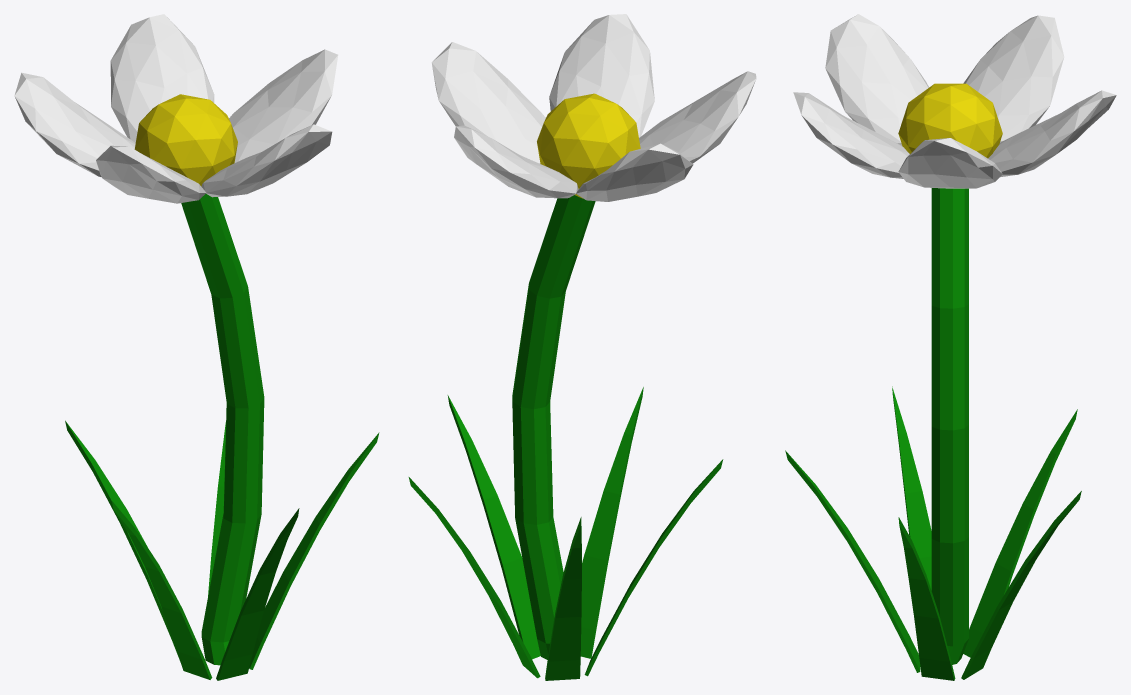
The model's file is kwiatuszek1.glb.
The picture shows the model from 3 angles, left to right: view 1: azimuth 30°, elevation 25°; view 2: azimuth 150°, elevation 25°; view 3: azimuth 270°, elevation 25°; orthographic projection. The views are drawn at different scales.
Visible parts, largest first — view 1: Cylinder, Cube; view 2: Cylinder, Cube; view 3: Cylinder, Cube.
Boxes of the visible parts, x1=… form: Cylinder: x1=14, y1=14, x2=338, y2=665; Cube: x1=65, y1=420, x2=379, y2=680; Cylinder: x1=431, y1=14, x2=756, y2=659; Cube: x1=408, y1=387, x2=723, y2=680; Cylinder: x1=793, y1=14, x2=1116, y2=664; Cube: x1=785, y1=386, x2=1081, y2=680.
Size of the model in its own units: 0.5173 by 0.9765 by 0.5053.
